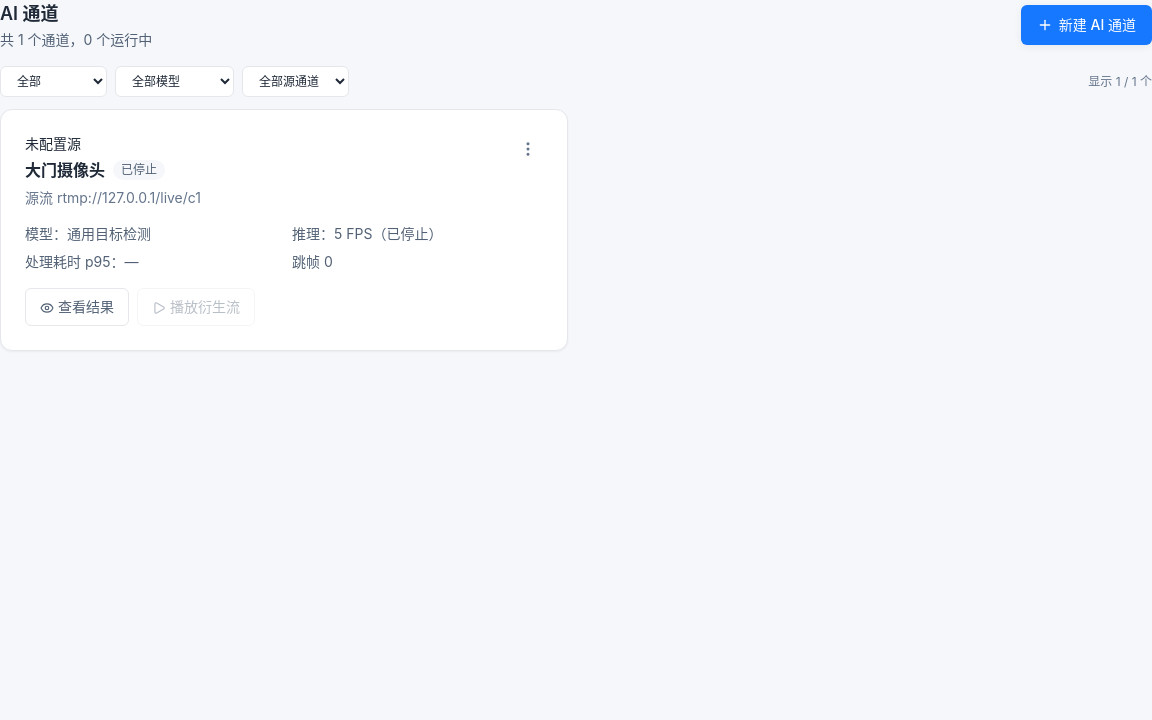
Test case: AiChannelsPage › 点击 ⋮ 菜单中的"删除"打开确认弹窗，须输入通道名才能确认
The width and height of the screenshot is (1152, 720).
Click the button named "更多操作" at (528, 149), box 513,134 -> 543,164
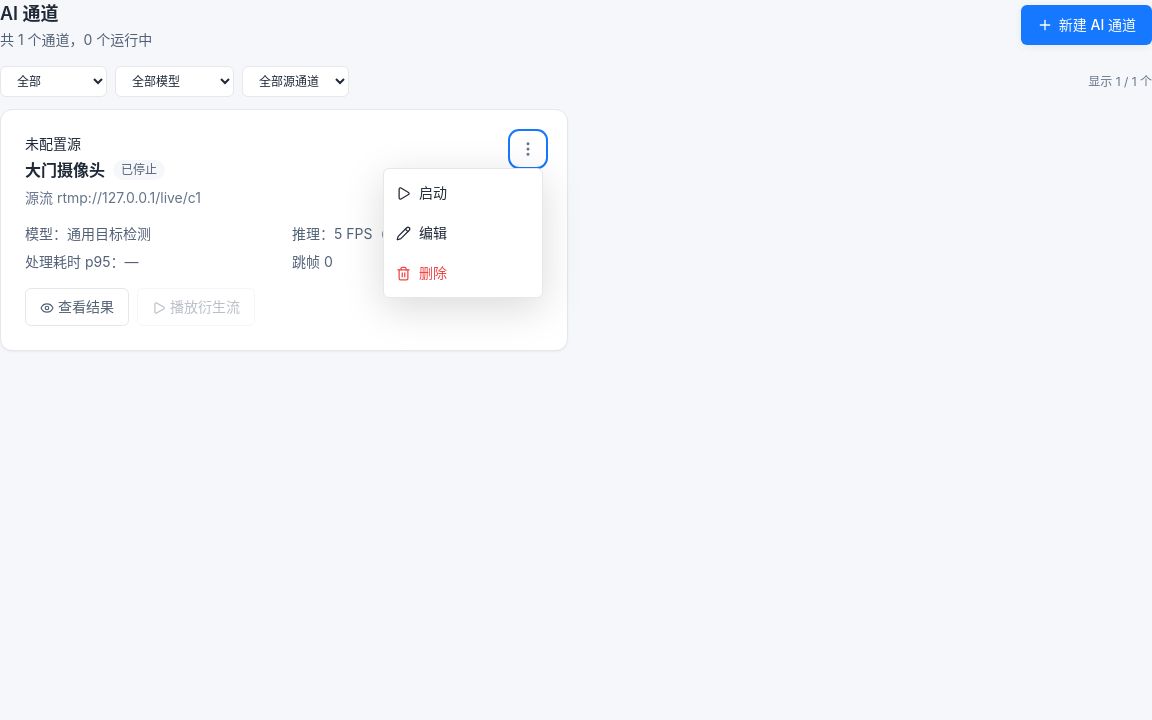
Click the button "删除" at (463, 273), box 384,253 -> 542,293
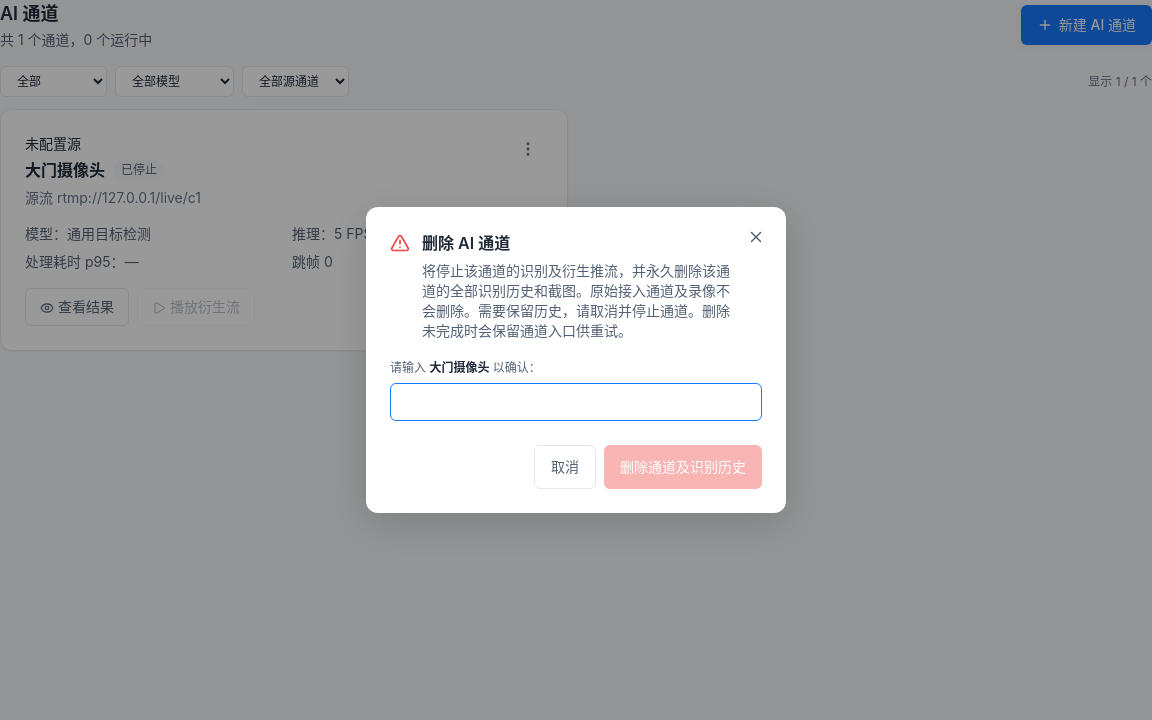
Expected: the heading "删除 AI 通道" is shown, 422,233 -> 510,253
Expected: the button with test id "confirm-ok" is disabled, 604,445 -> 762,489
Type "大门摄像头" into the field with test id "confirm-input" at (576, 402), box 390,383 -> 762,421
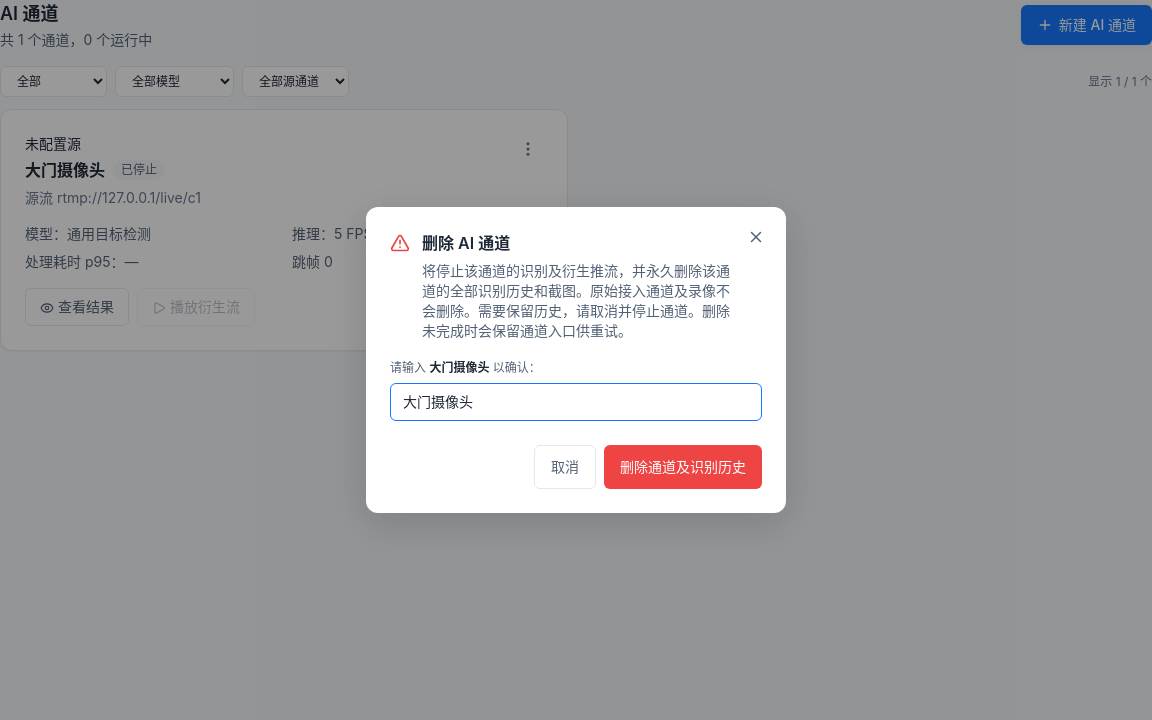
Expected: the button with test id "confirm-ok" is enabled, 604,445 -> 762,489
